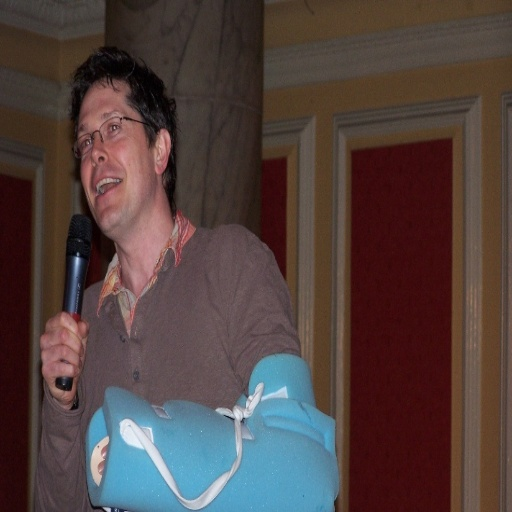hand: (33, 296, 87, 407), (98, 440, 108, 475)
